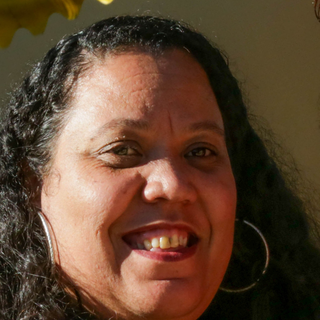eye: (94, 141, 145, 164), (180, 141, 221, 166)
